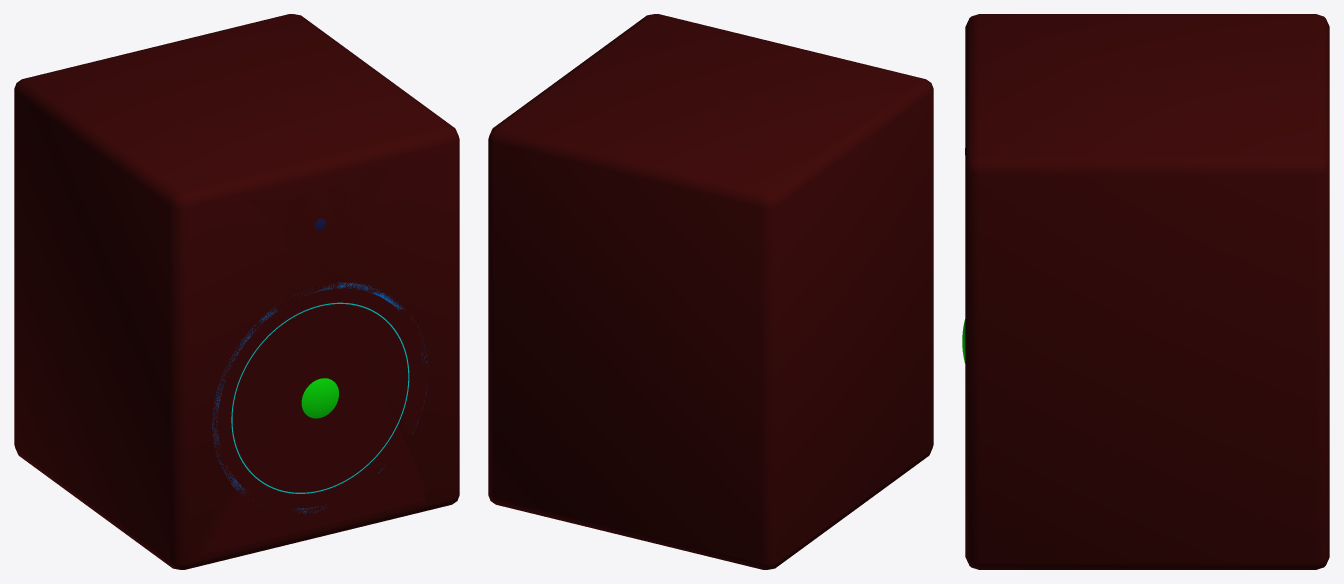
Rendered from HOUD_SPEAKER.fbx.
3 views of the same model, side by side, from view 1: azimuth 30°, elevation 25°; view 2: azimuth 150°, elevation 25°; view 3: azimuth 270°, elevation 25° (orthographic). The views are drawn at different scales.
Parts seen in each view (by area): view 1: HOUD_SPEAKER4; view 2: HOUD_SPEAKER4; view 3: HOUD_SPEAKER4.
Boxes of the visible parts, <box> form: HOUD_SPEAKER4: <box>14,14,459,569</box>; HOUD_SPEAKER4: <box>488,14,933,569</box>; HOUD_SPEAKER4: <box>962,14,1329,569</box>.
Size of the model in its own units: 0.8 by 1.02 by 0.8071.
